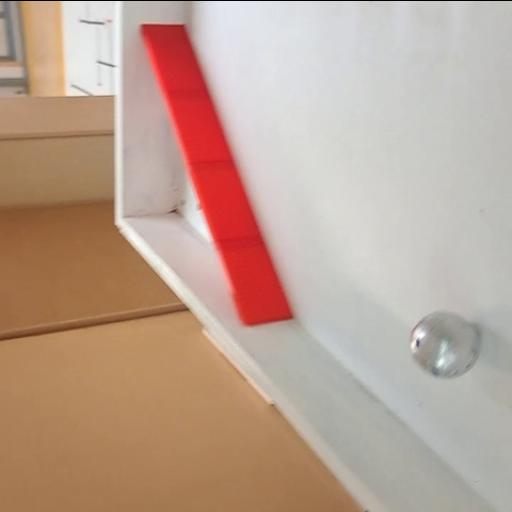alive: (408, 310, 482, 378)
